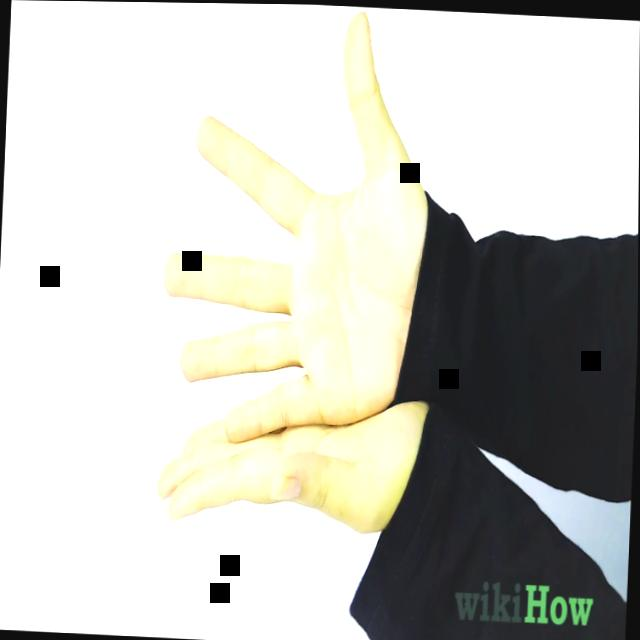Paper: (153, 2, 438, 453)
